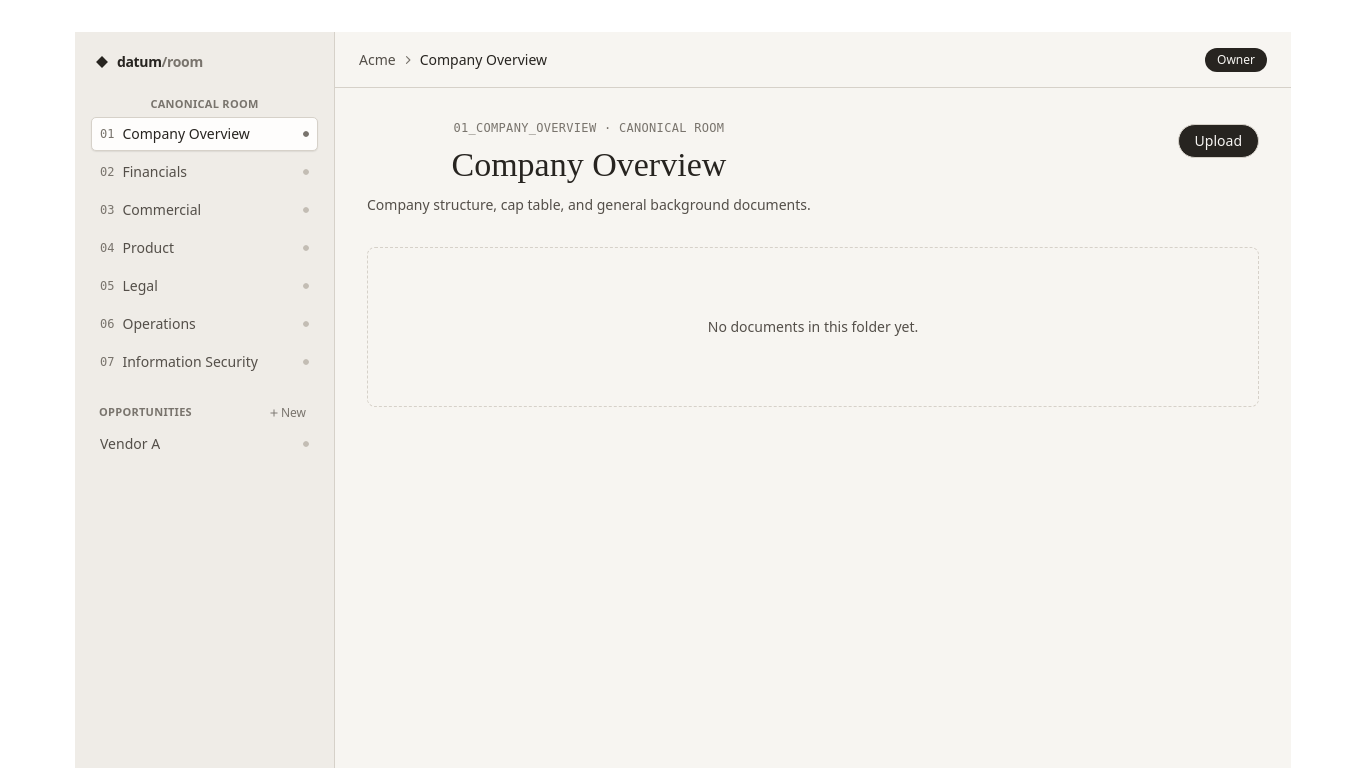
Test case: Room › with a loaded room › shows the "New" button for an owner and opens the create modal on click
The image size is (1366, 768).
What coordinates should you click on to do the following:
click the button "New"
I would click on:
 (287, 412)
Its box is [265,402,310,422].
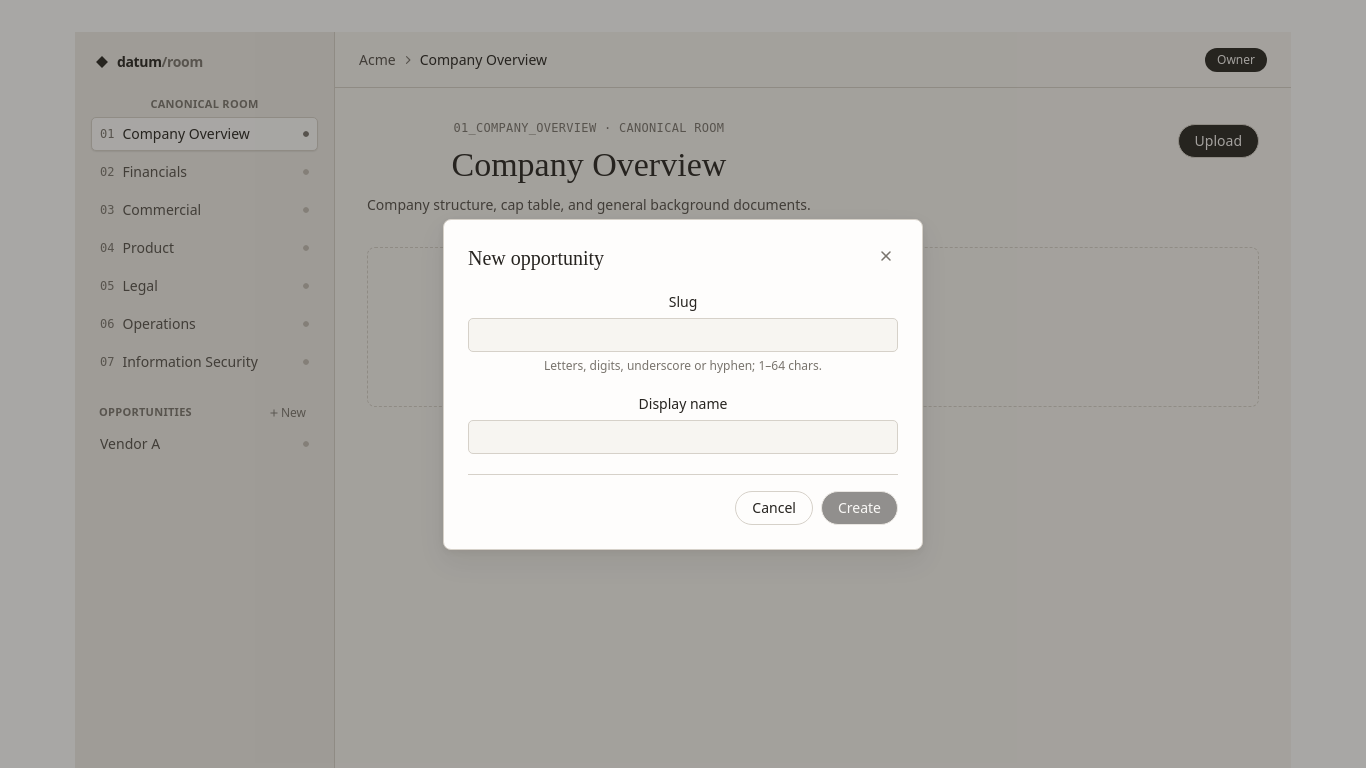
Check: the dialog is shown, box [443,218,923,550]
Check: the heading "New opportunity" is shown, box [468,244,604,272]
